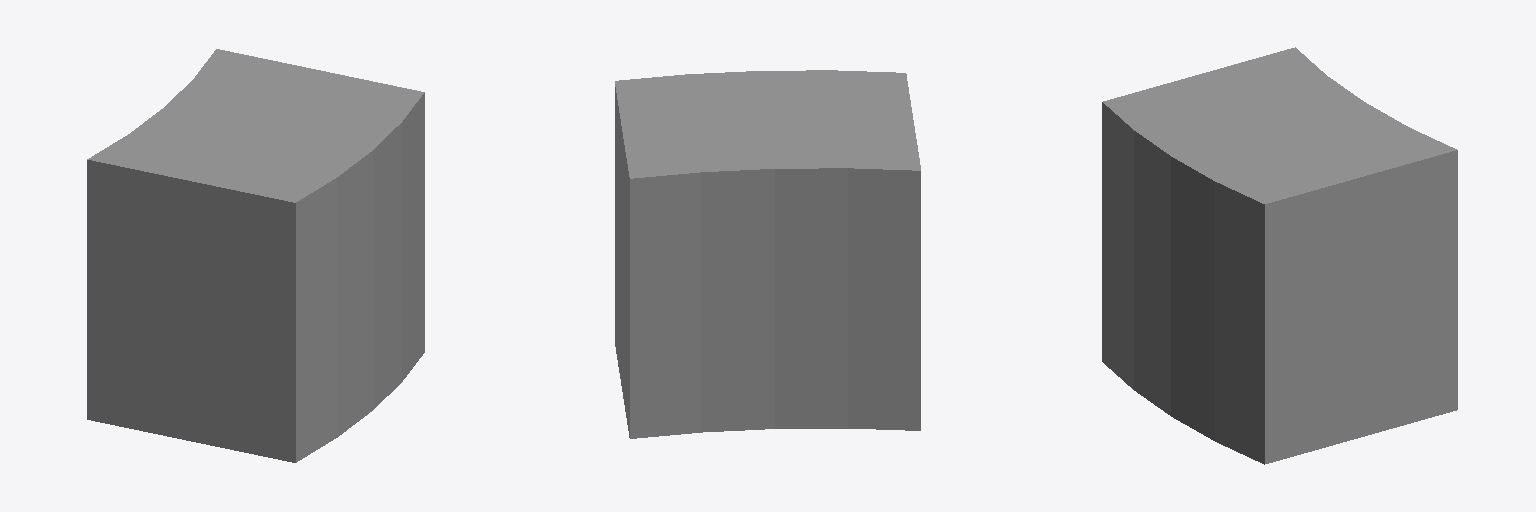
The model's file is Zelle.obj.
3 renders of one model, left to right at view 1: azimuth 30°, elevation 25°; view 2: azimuth 150°, elevation 25°; view 3: azimuth 270°, elevation 25°, orthographic.
Visible parts, largest first — view 1: Zelle_Cube; view 2: Zelle_Cube; view 3: Zelle_Cube.
Part boxes in pixels (x1,y1,x2,y2): Zelle_Cube: (87,49,424,462); Zelle_Cube: (615,70,920,438); Zelle_Cube: (1102,47,1457,464).
Size of the model in its own units: 0.4967 by 0.3832 by 0.4746.